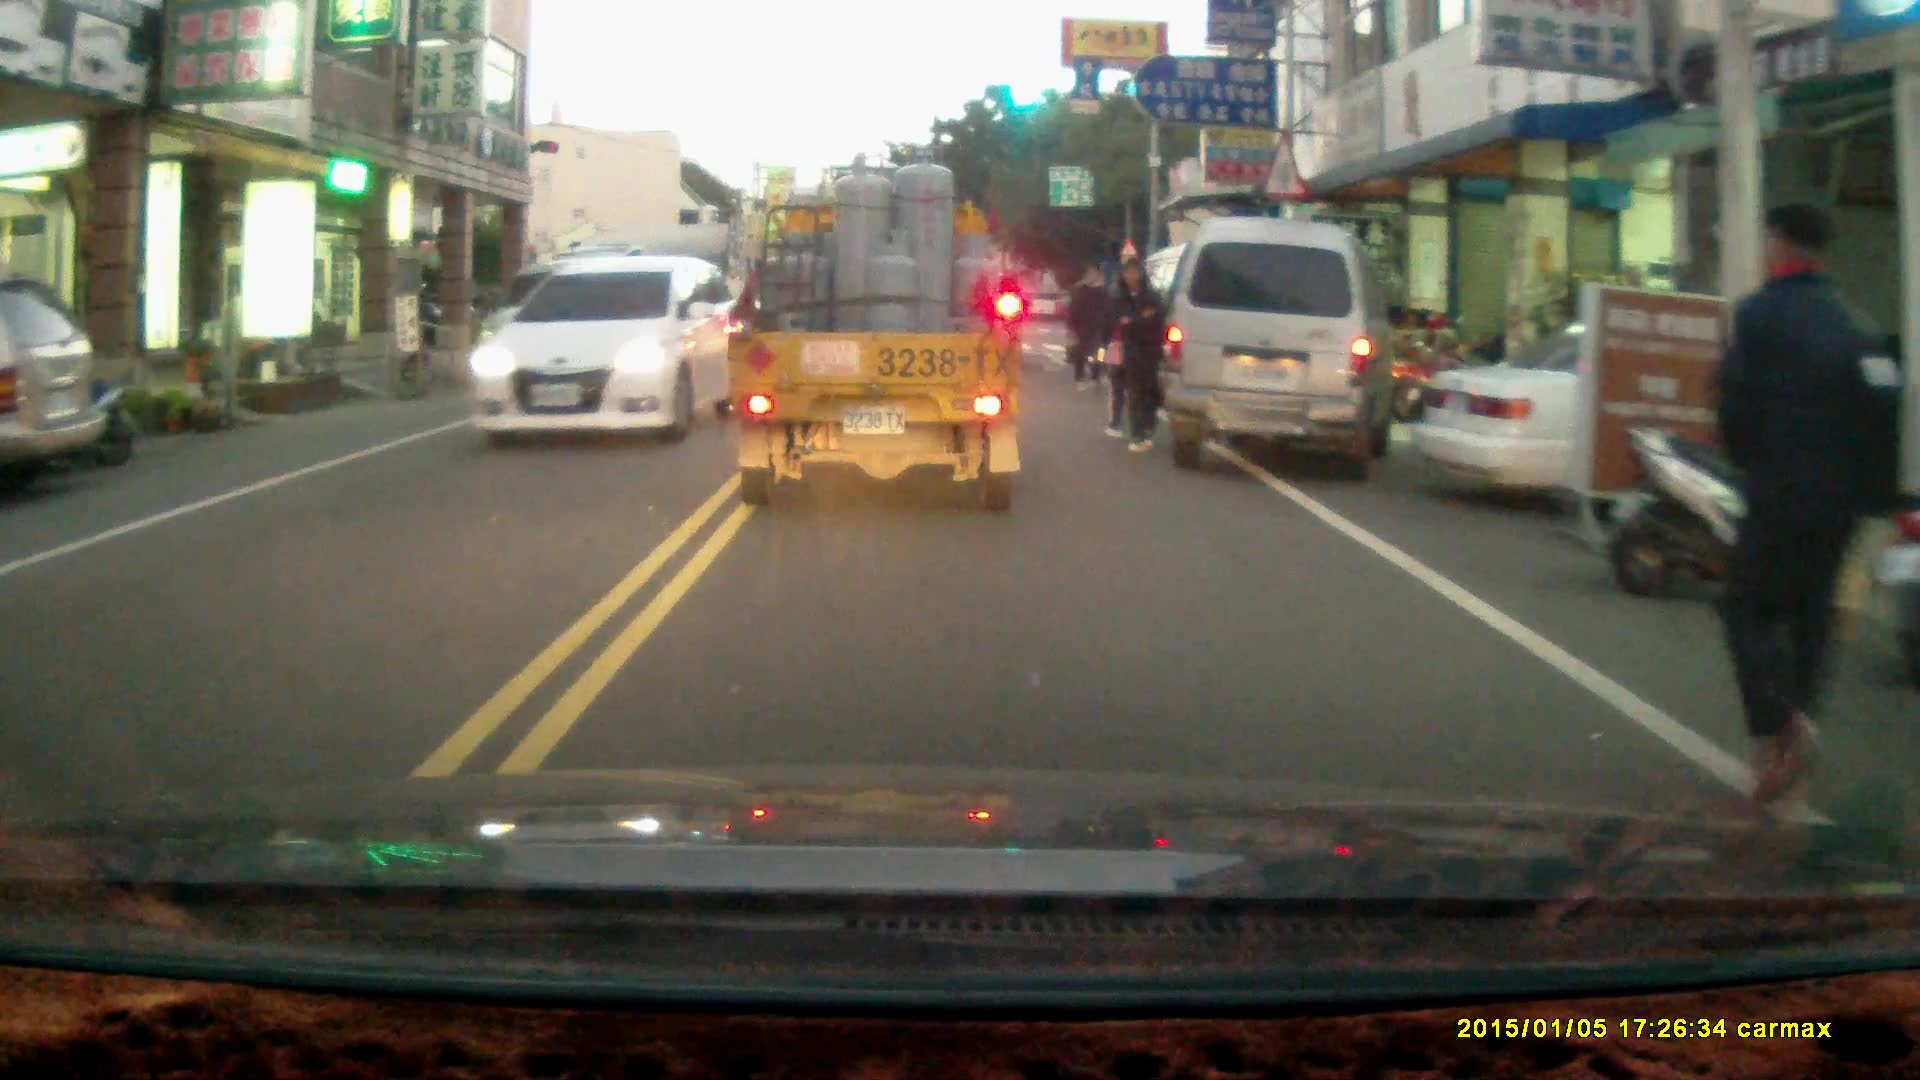pedestrian: (1693, 202, 1895, 819), (1108, 255, 1164, 451), (1065, 258, 1114, 391)
vehicle: (723, 154, 1025, 510), (1406, 314, 1889, 529), (1161, 210, 1401, 474), (472, 252, 735, 437), (1, 273, 111, 476)
